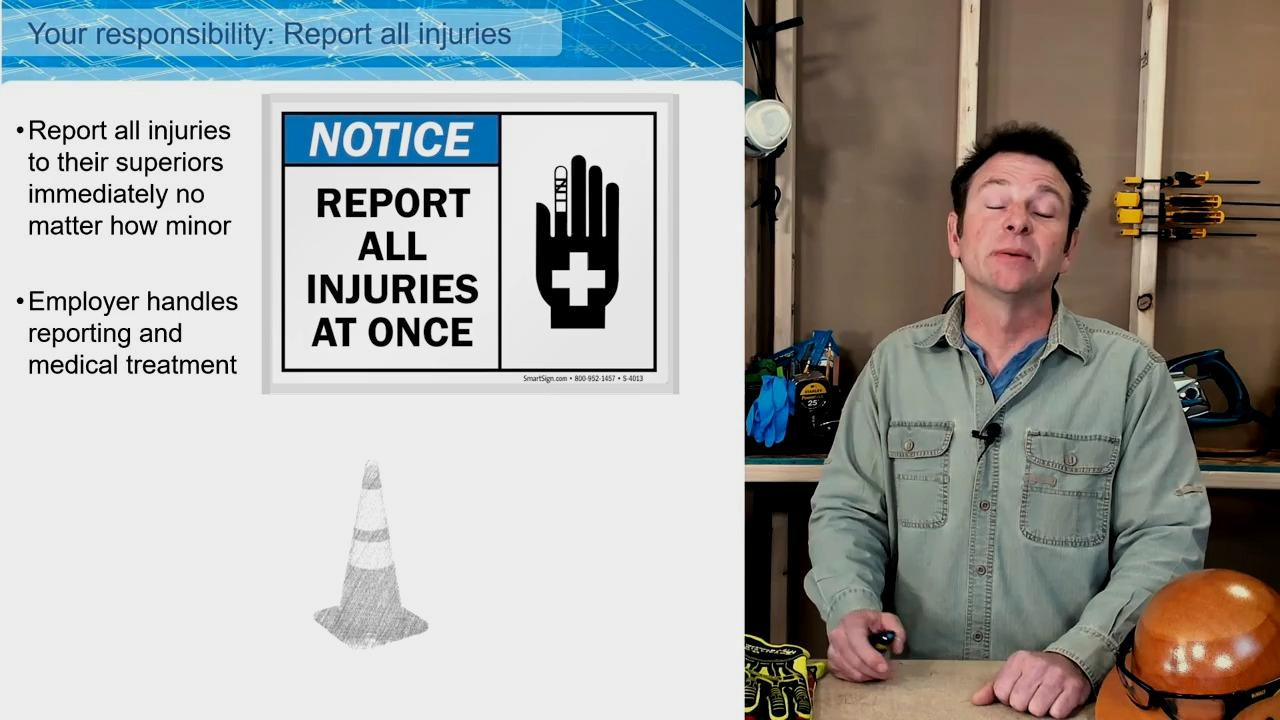safety_signage: (271, 90, 674, 395)
